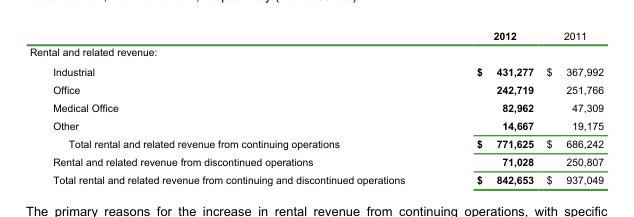table: (28, 29, 602, 185)
table column: (28, 29, 440, 185), (440, 29, 539, 185), (539, 29, 602, 185)
table column header: (28, 29, 602, 43)
table projected row header: (28, 43, 602, 61)
table row: (28, 61, 602, 80), (28, 43, 602, 61), (28, 80, 602, 98), (28, 98, 602, 116), (28, 116, 602, 134), (28, 134, 602, 152), (28, 152, 602, 170), (28, 170, 602, 185), (28, 29, 602, 43)
